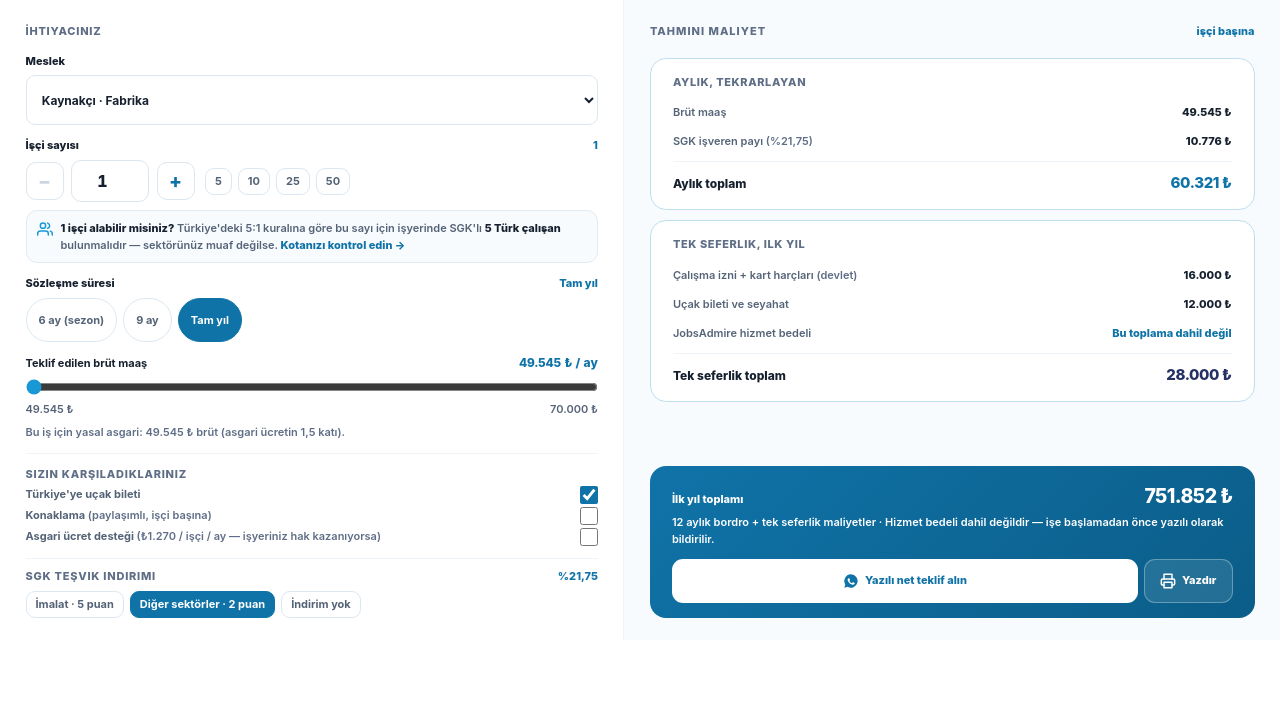
Scenario: CalculatorIsland › the stepper commits on blur, not per keystroke (W131)
Replace the text in the number field named "İşçi sayısı" with "12" at [110, 181], box [71,160,149,202]
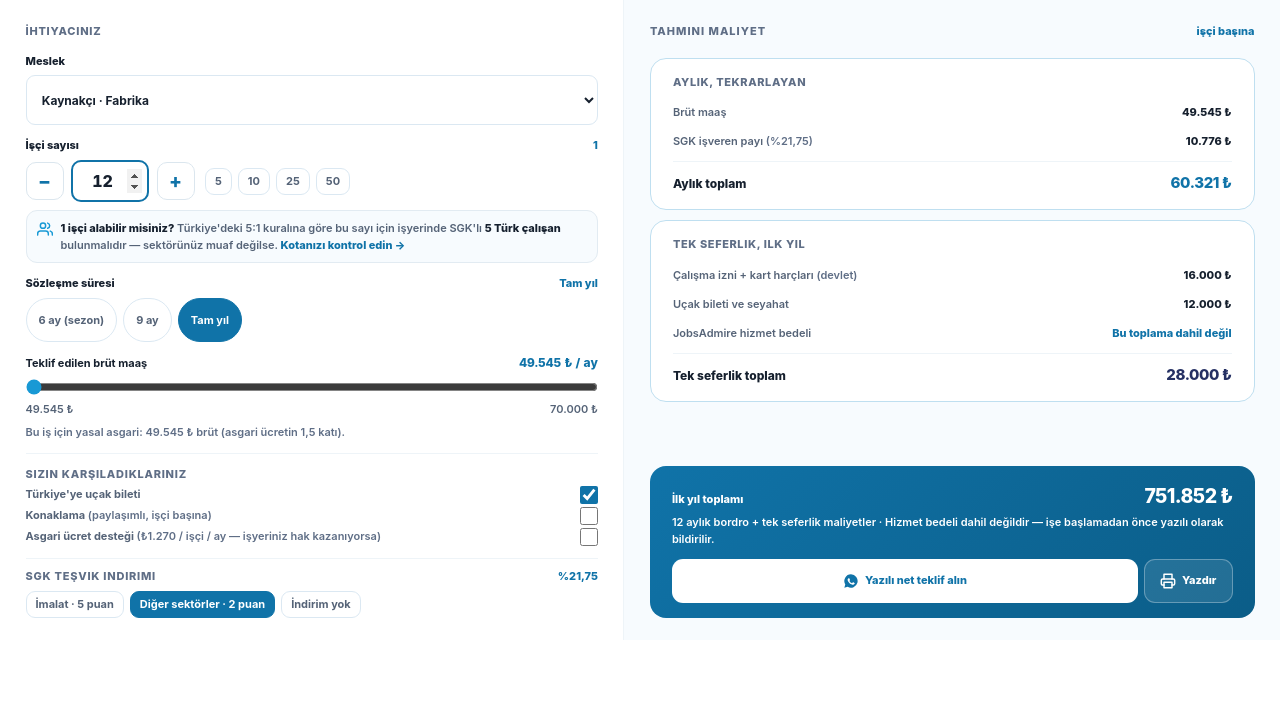
Check: the text with test id "calc-monthly-total" reads "60.321 ₺", box [1171,173,1232,192]
Leave the number field named "İşçi sayısı", box [71,160,149,202]
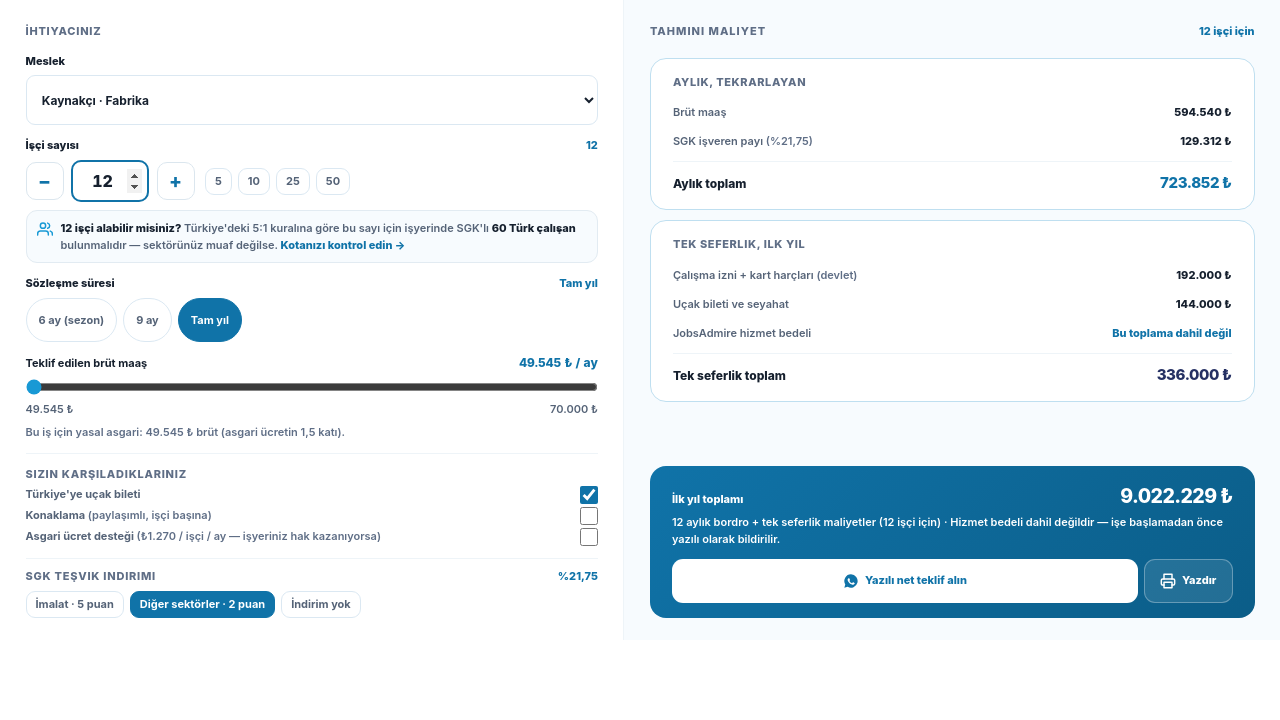
Check: the text with test id "calc-monthly-total" reads "723.852 ₺", box [1160,173,1232,192]
